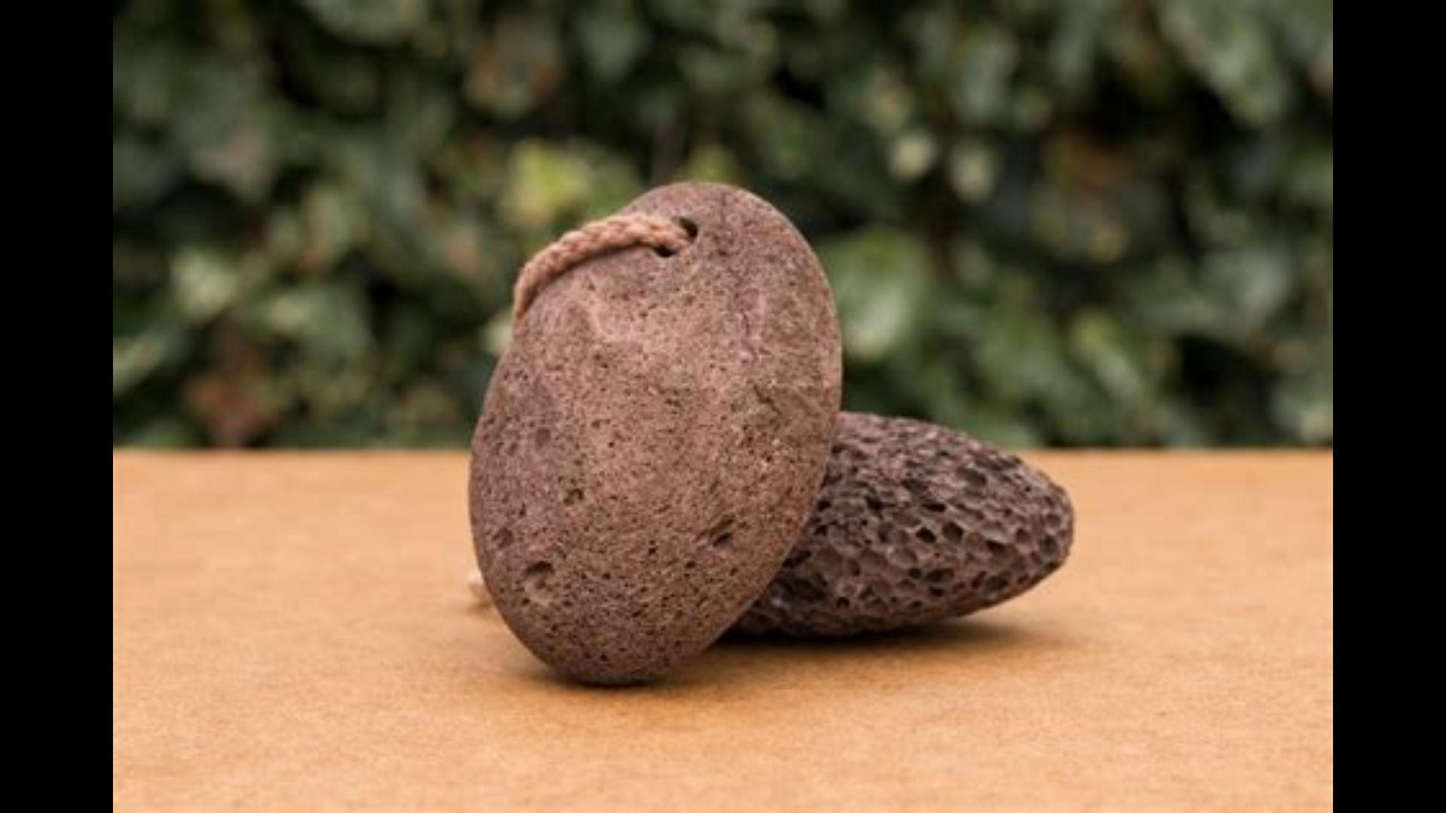rock: (471, 185, 839, 677), (730, 411, 1073, 638)
